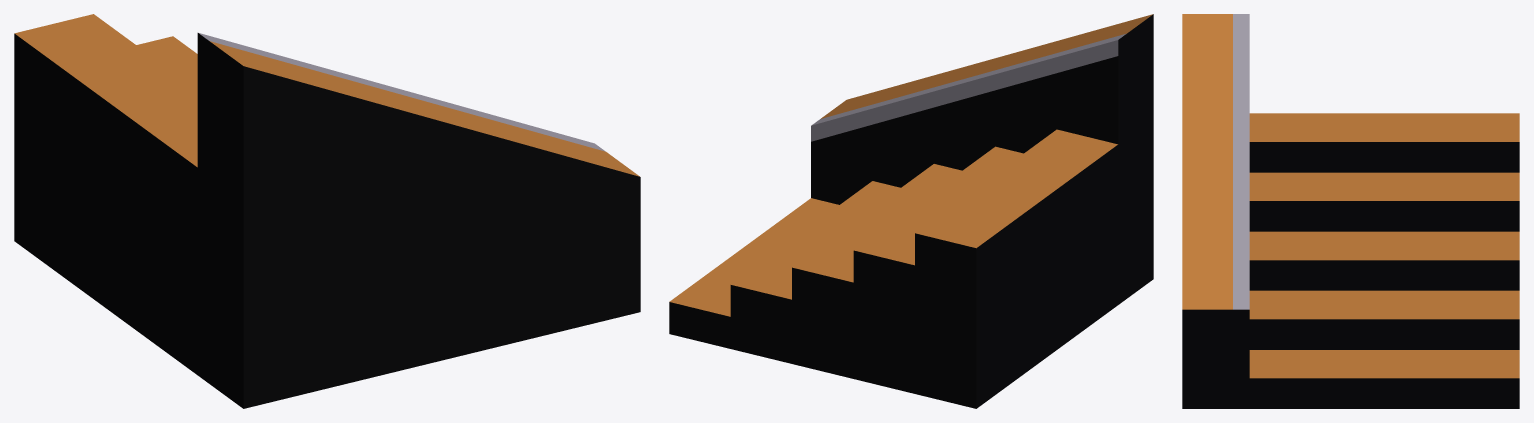
Rendered from Ledge_Stairs_SML_L.obj.
3 renders of one model, left to right at view 1: azimuth 30°, elevation 25°; view 2: azimuth 150°, elevation 25°; view 3: azimuth 270°, elevation 25°, orthographic. The views are drawn at different scales.
Parts seen in each view (by area): view 1: Ledge_Stairs_SML_L; view 2: Ledge_Stairs_SML_L; view 3: Ledge_Stairs_SML_L.
Part boxes in pixels (x1,y1,x2,y2): Ledge_Stairs_SML_L: [14, 14, 640, 408]; Ledge_Stairs_SML_L: [669, 14, 1153, 408]; Ledge_Stairs_SML_L: [1182, 14, 1519, 408].
Bounding box in the file's own units: 10 × 8.25 × 10.
